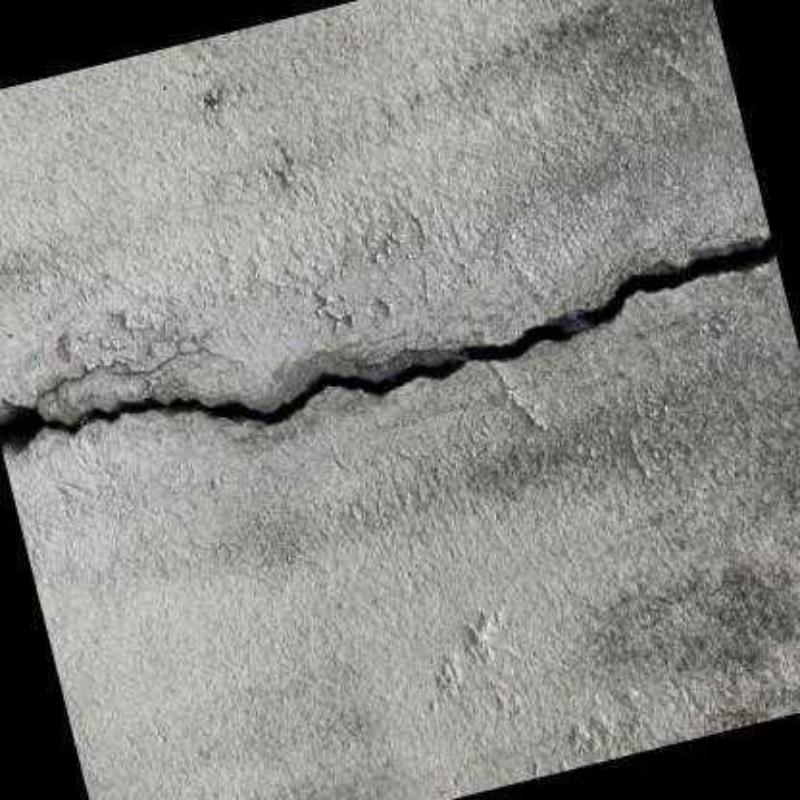pothole: (0, 230, 776, 458), (35, 348, 215, 404)
